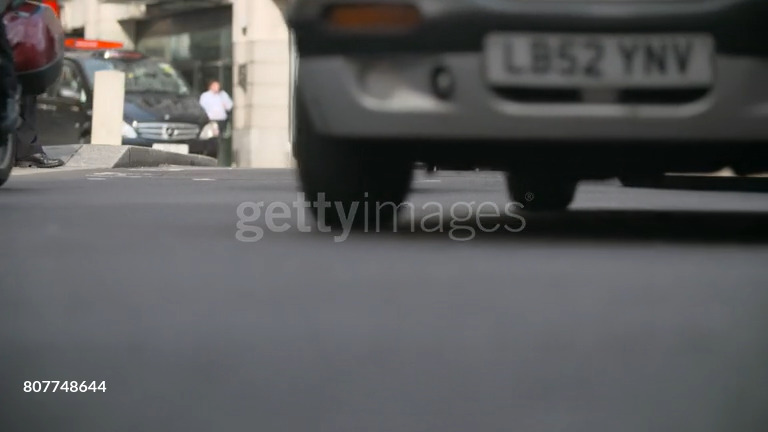car number: (490, 31, 708, 85)
